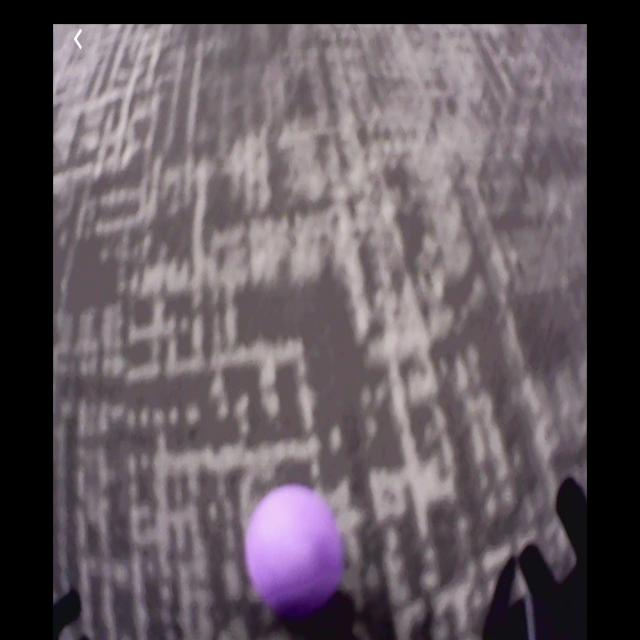ball: (246, 484, 344, 616)
